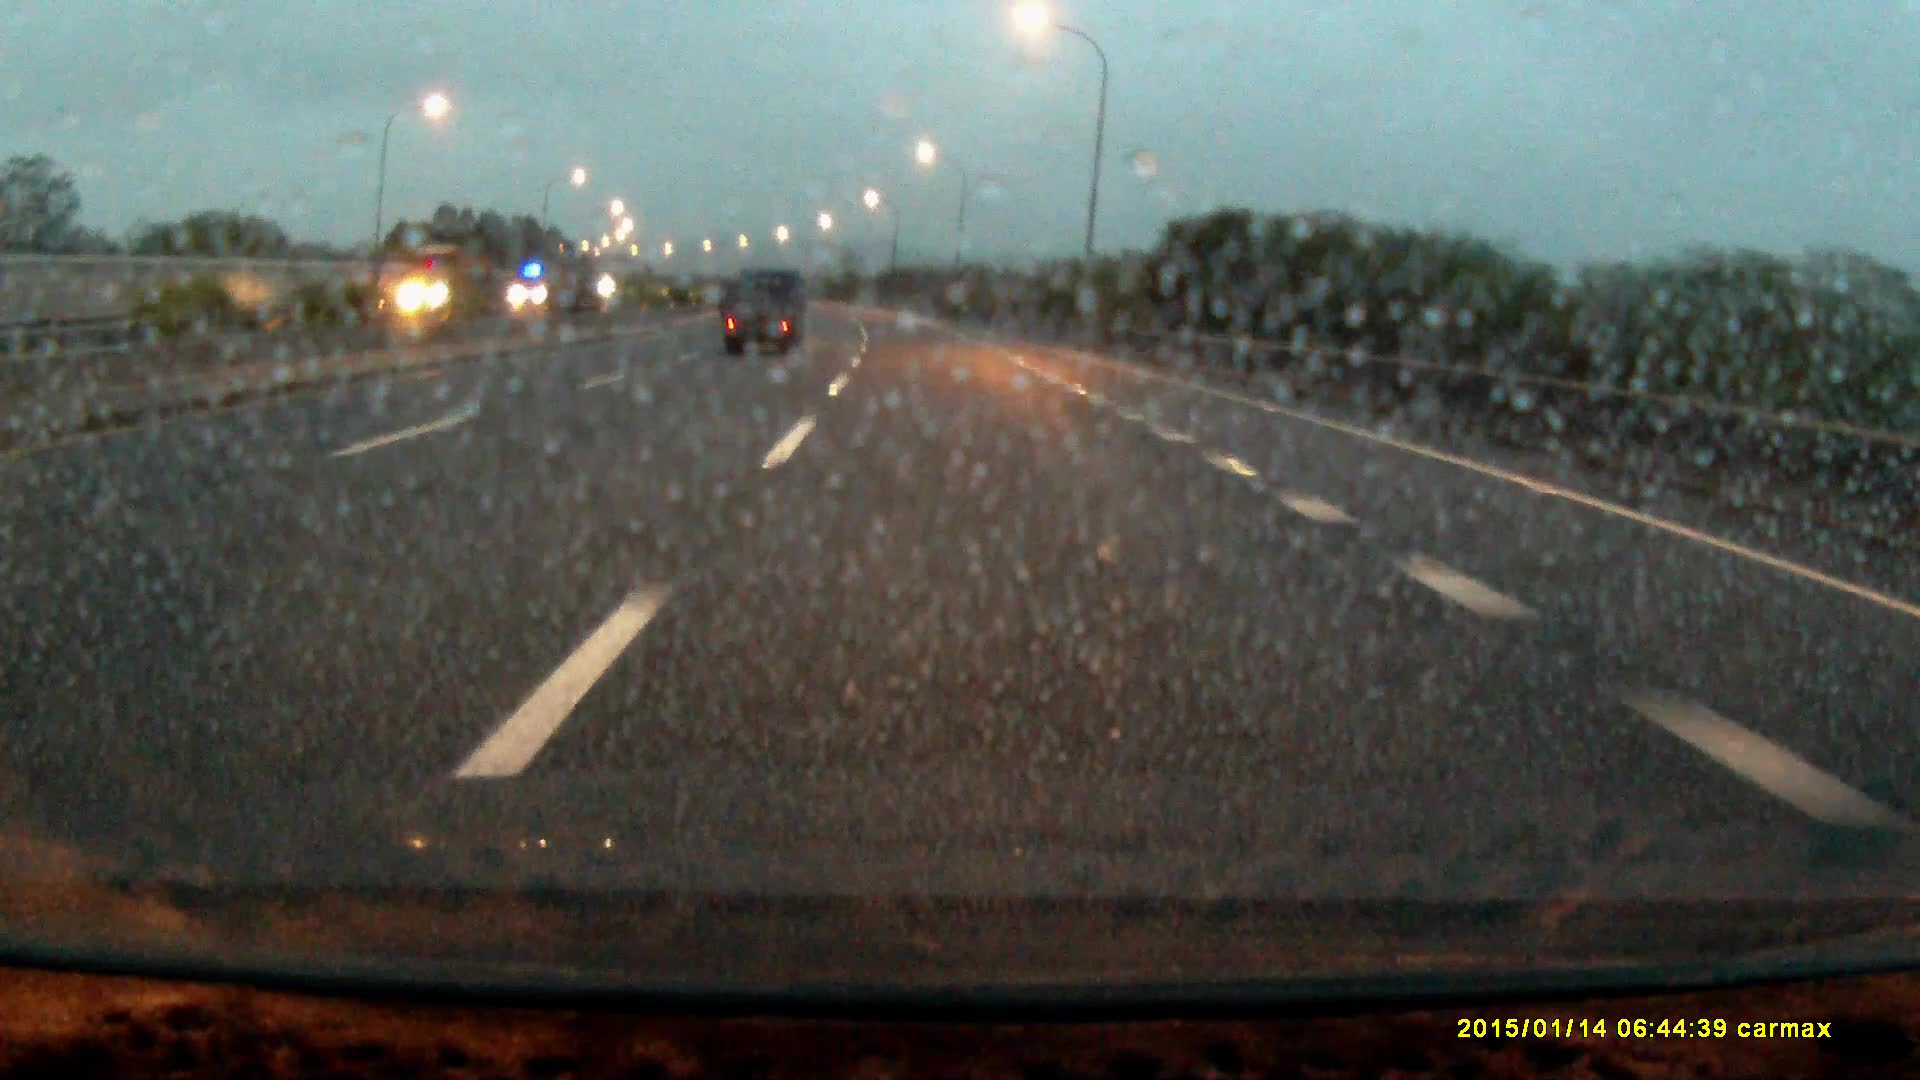vehicle: (725, 268, 804, 360), (404, 251, 500, 318), (510, 262, 578, 313)
